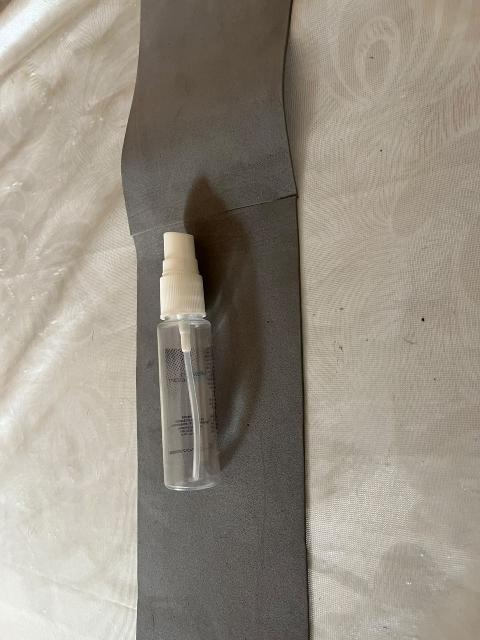PET: (124, 194, 299, 537)
